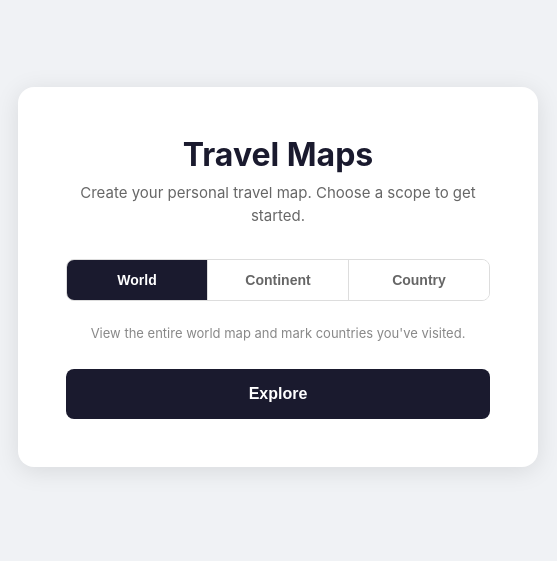
Test: LandingPage Component › shows country search and dropdown when country tab is selected
Click the button "Country" at [419, 280], box [349, 260, 489, 300]
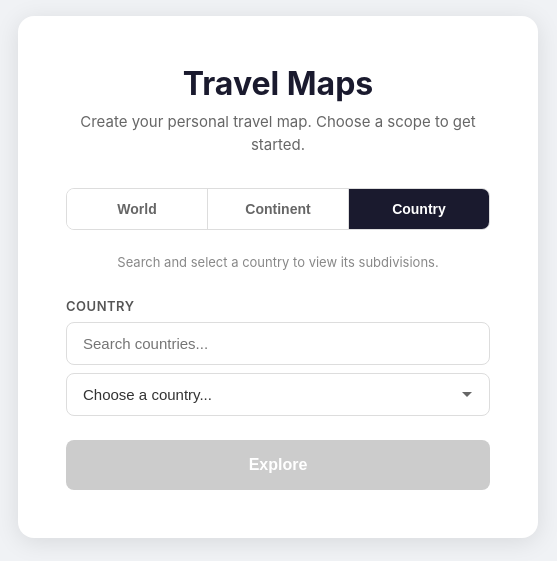
Check: the field with placeholder "Search countries..." is shown, box [66, 322, 490, 365]
